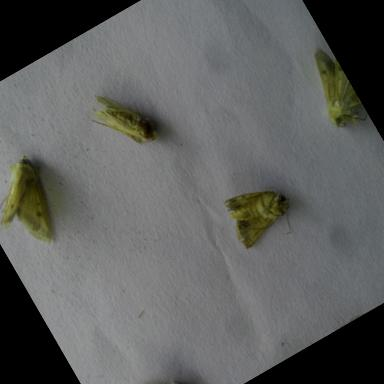abw: (76, 70, 170, 170), (0, 146, 78, 264), (214, 166, 309, 262), (290, 38, 374, 144), (115, 357, 207, 384)
